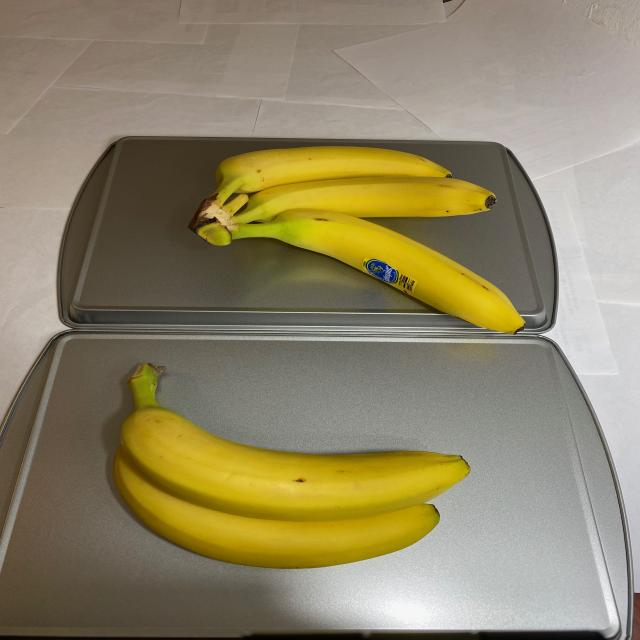Banana: (102, 359, 480, 571), (185, 146, 534, 338)
